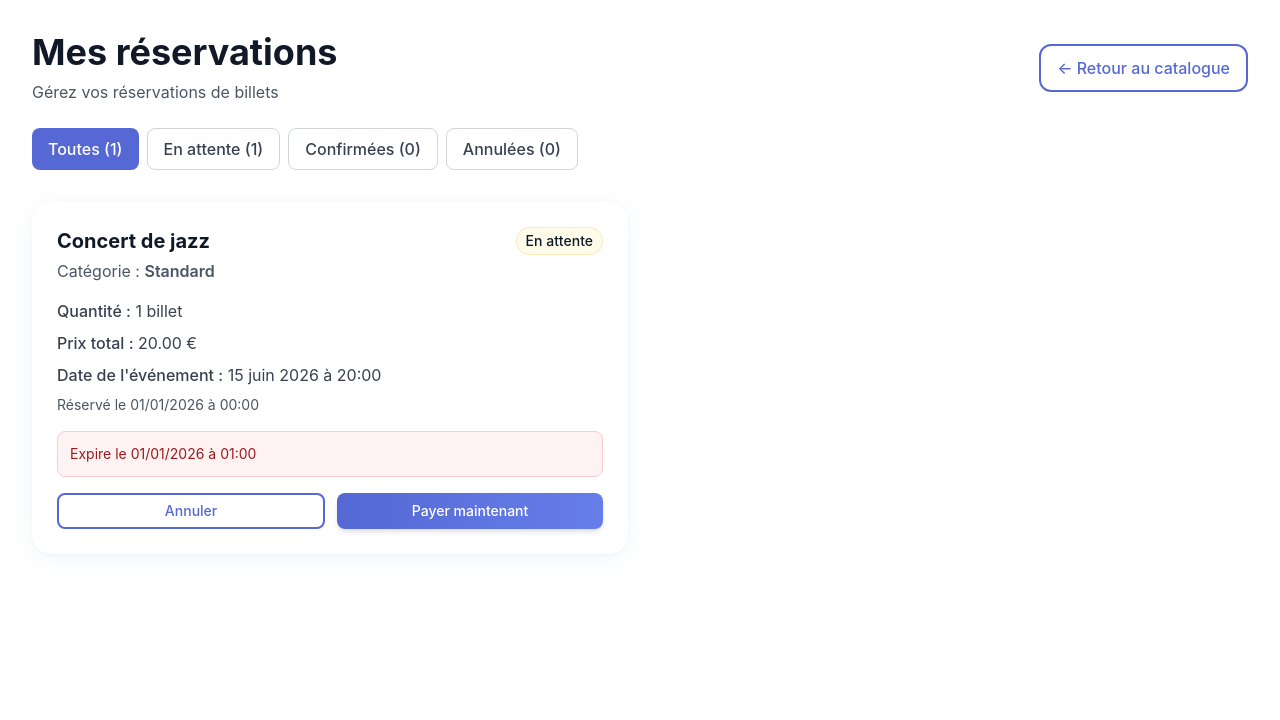
Test: BookingsPage - listing and filters › shows a filtered empty state message
Expected: the button "Toutes (1)" is shown, [32, 128, 138, 170]
Click the button "Annulées (0)" at coordinates (512, 149), box [446, 128, 578, 170]
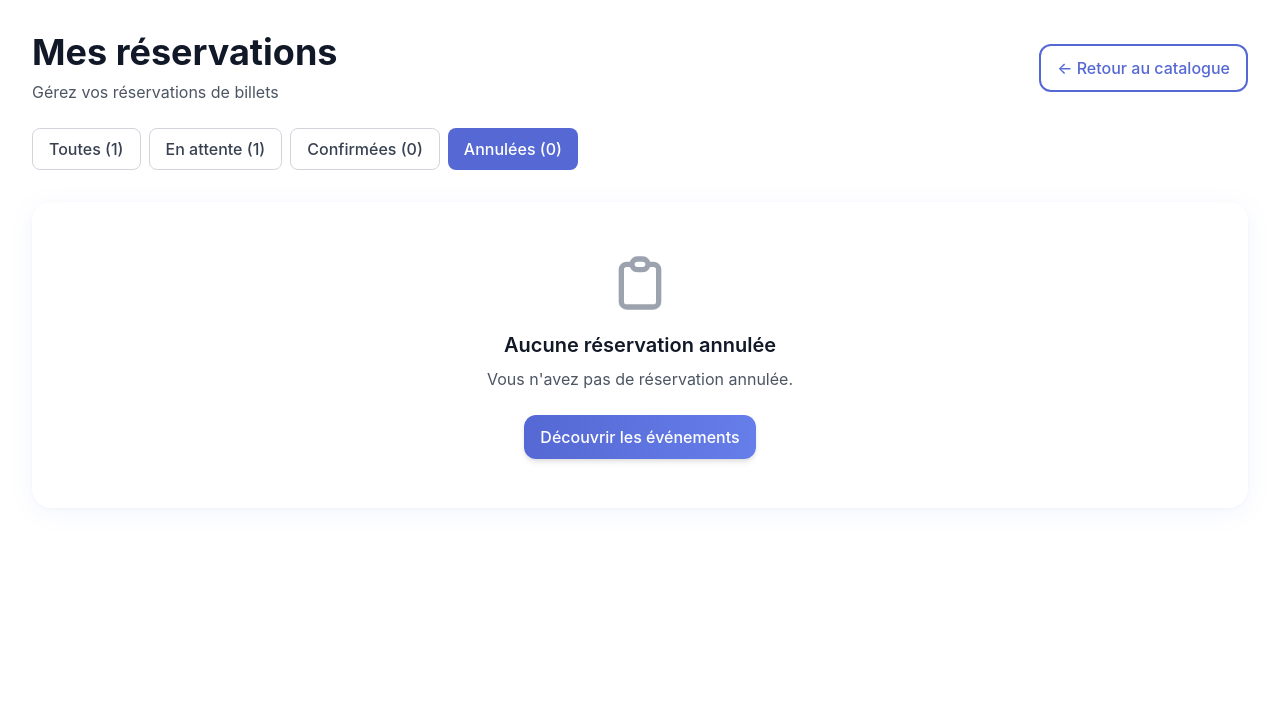
Now the heading "Aucune réservation annulée" is shown, box [504, 333, 776, 357]
